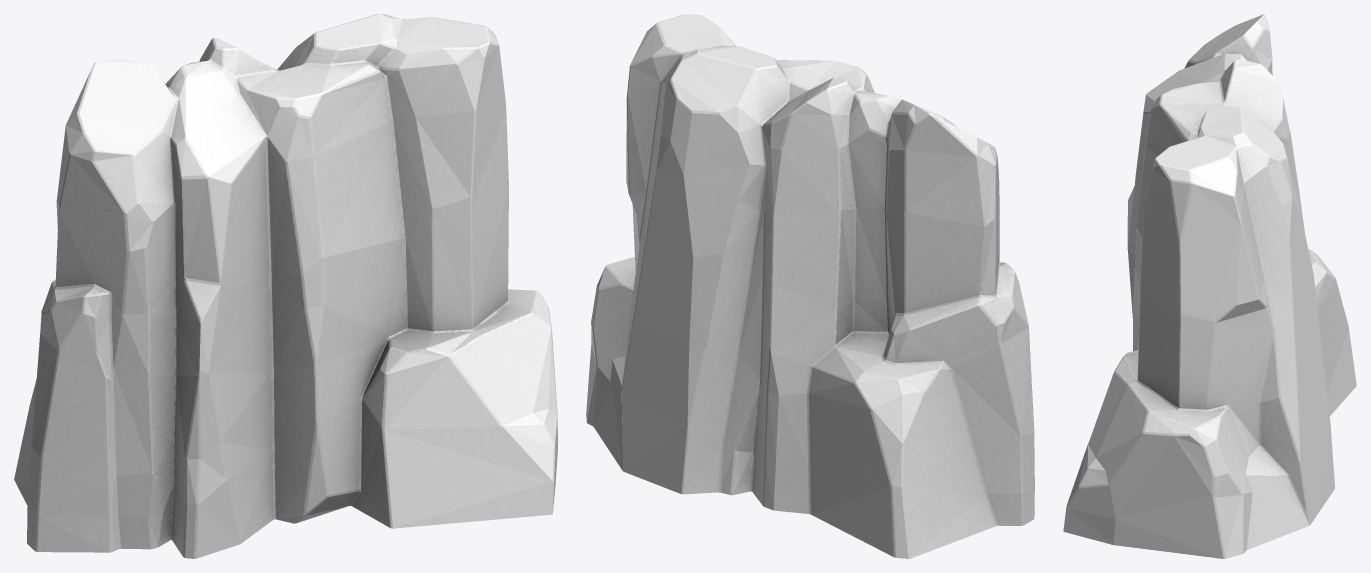
File: wall_01.fbx
The picture shows the model from 3 angles, left to right: view 1: azimuth 30°, elevation 25°; view 2: azimuth 150°, elevation 25°; view 3: azimuth 270°, elevation 25°; orthographic projection. The views are drawn at different scales.
Visible parts, largest first — view 1: rock_combo_4.001; view 2: rock_combo_4.001; view 3: rock_combo_4.001.
Boxes of the visible parts, <box> form: rock_combo_4.001: <box>14,14,557,558</box>; rock_combo_4.001: <box>586,14,1034,558</box>; rock_combo_4.001: <box>1063,14,1356,558</box>.
Size of the model in its own units: 512 by 451 by 312.
1 material, 1 textured.
